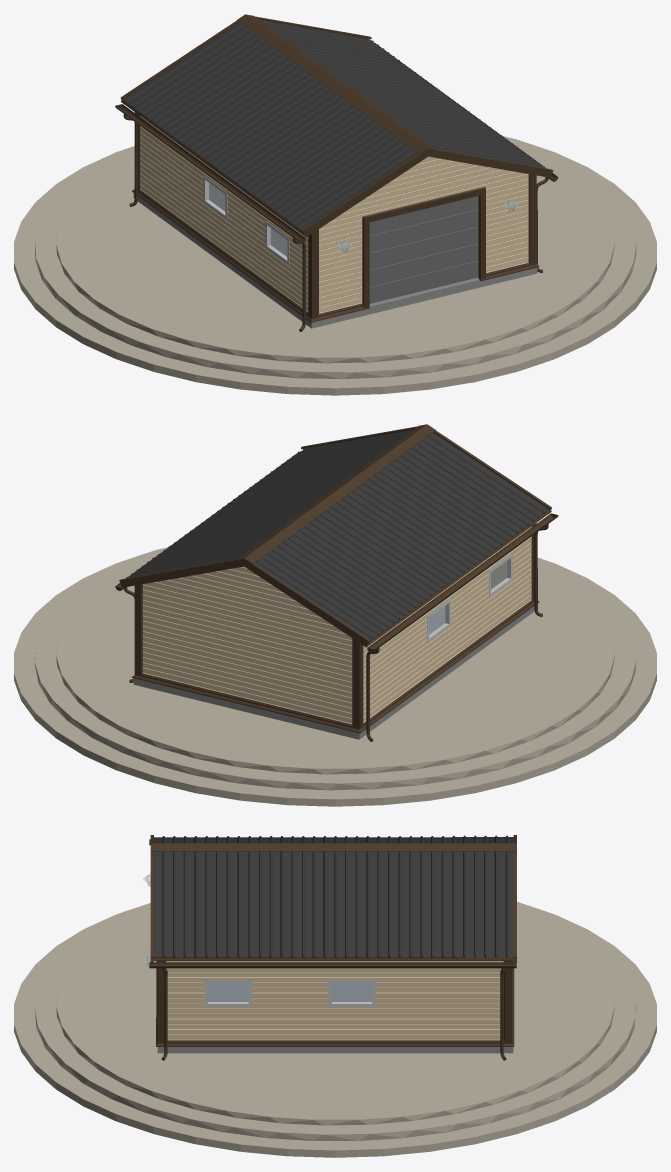
File: garage_6x8.glb
3 views of the same model, one above another, from view 1: azimuth 30°, elevation 25°; view 2: azimuth 150°, elevation 25°; view 3: azimuth 270°, elevation 25° (orthographic).
Visible parts, largest first — view 1: ground, roof, walls, trim, gate, foundation, windows, glass; view 2: ground, roof, walls, trim, foundation, windows, glass; view 3: ground, roof, walls, trim, foundation, glass, windows.
Part boxes in pixels (left/top/right/bottom): ground: left=14, top=136, right=656, bottom=395; roof: left=123, top=20, right=544, bottom=230; walls: left=140, top=116, right=528, bottom=313; trim: left=115, top=14, right=558, bottom=331; gate: left=369, top=196, right=477, bottom=303; foundation: left=133, top=183, right=537, bottom=328; windows: left=203, top=175, right=289, bottom=264; glass: left=209, top=183, right=518, bottom=256; ground: left=14, top=547, right=656, bottom=806; roof: left=126, top=430, right=549, bottom=640; walls: left=142, top=527, right=531, bottom=724; trim: left=115, top=424, right=558, bottom=741; foundation: left=133, top=606, right=534, bottom=739; windows: left=427, top=553, right=512, bottom=643; glass: left=429, top=561, right=506, bottom=634; ground: left=14, top=901, right=656, bottom=1157; roof: left=151, top=835, right=513, bottom=957; walls: left=166, top=961, right=503, bottom=1040; trim: left=149, top=835, right=516, bottom=1060; foundation: left=157, top=983, right=513, bottom=1053; glass: left=143, top=874, right=371, bottom=1001; windows: left=204, top=979, right=375, bottom=1006.
Size of the model in its own units: 15 by 4.58 by 14.96.
